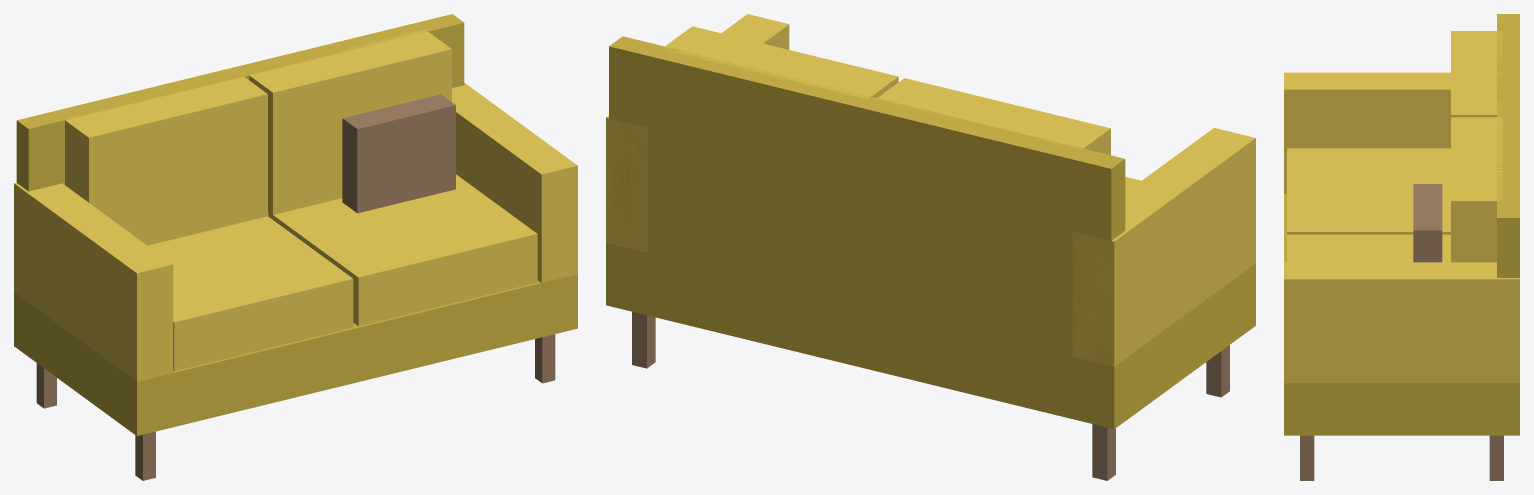
The model's file is sofa_08.glb.
3 views of the same model, side by side, from view 1: azimuth 30°, elevation 25°; view 2: azimuth 150°, elevation 25°; view 3: azimuth 270°, elevation 25° (orthographic). The views are drawn at different scales.
Size of the model in its own units: 1.7 by 1.03 by 0.82.
